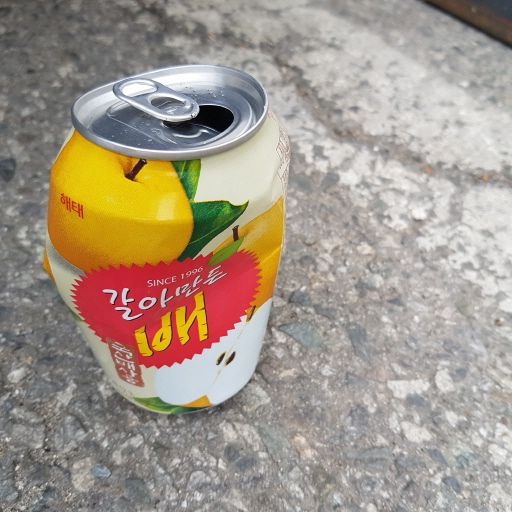Metal_0: (45, 59, 290, 419)
